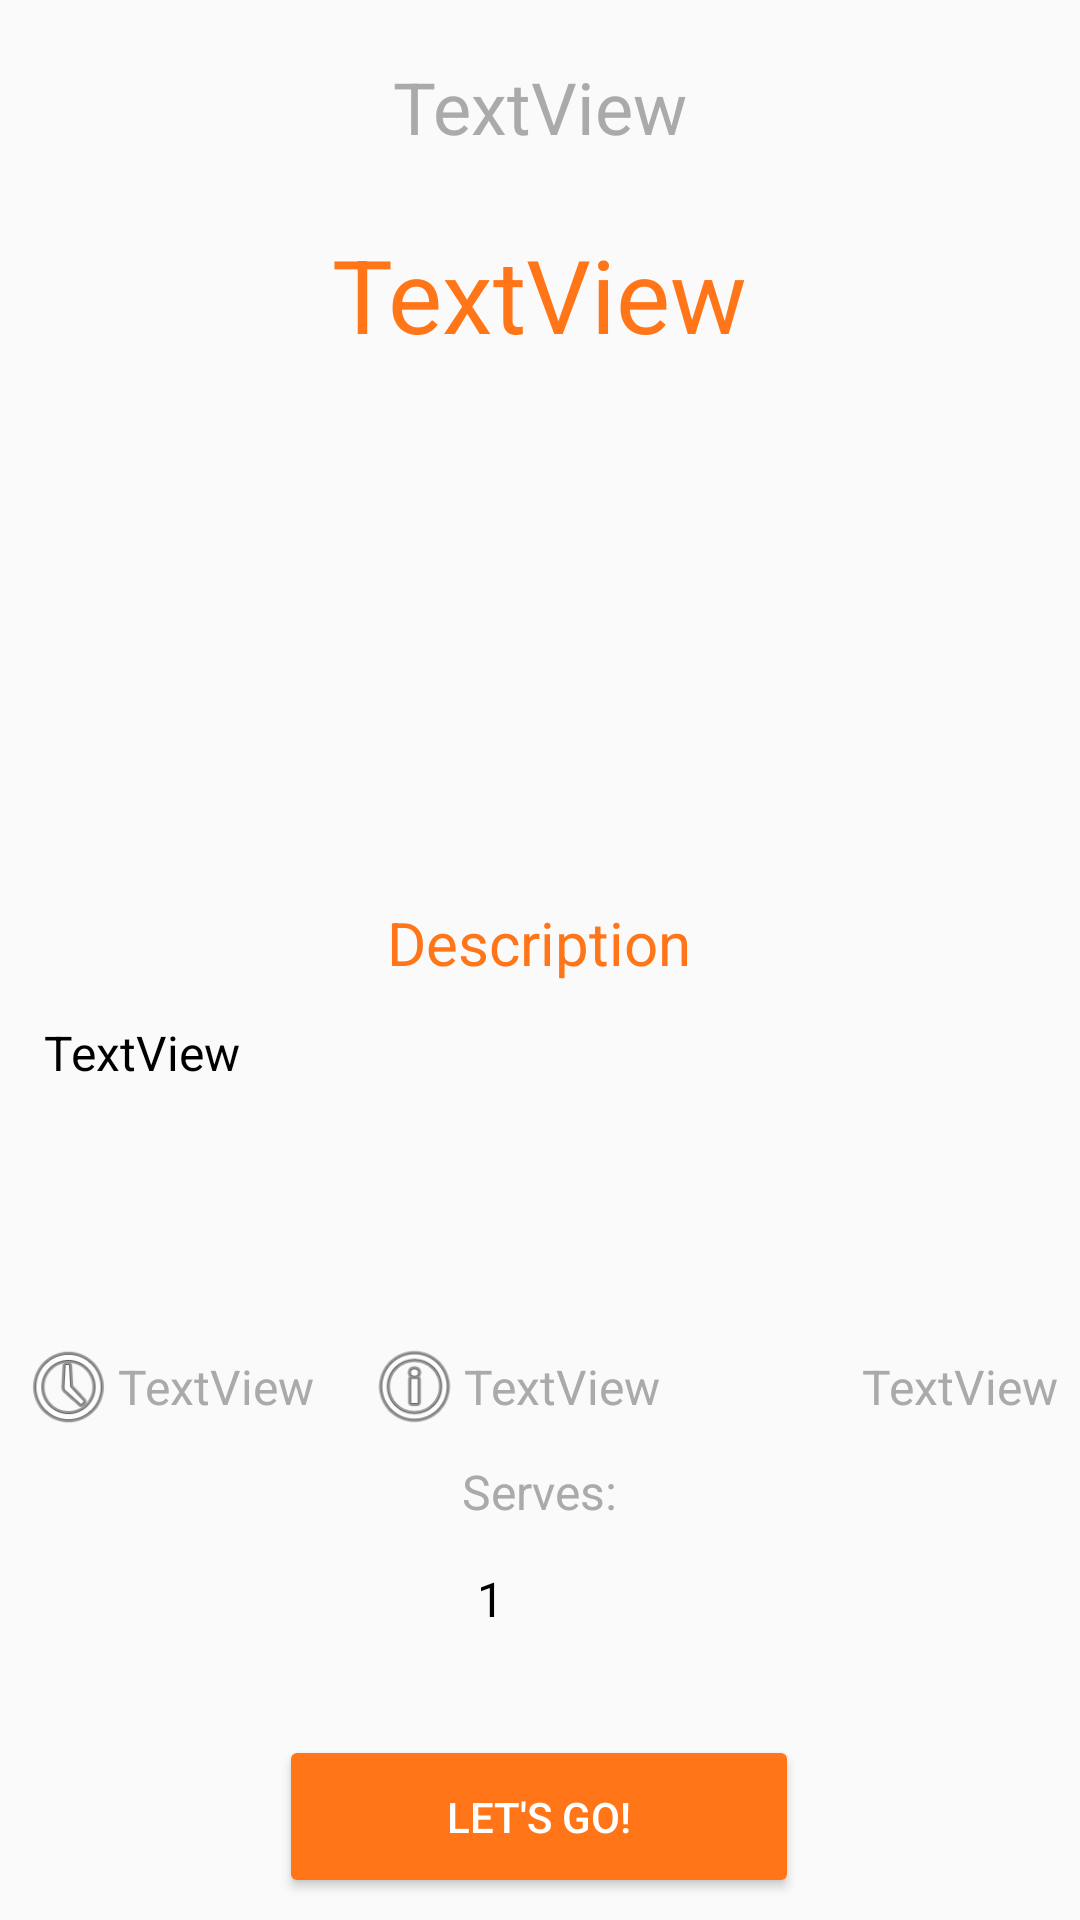

Icons on this 1080px x 1920px Android screen, each with its box as box(x1, y1, x2, y2):
info details: box(379, 1351, 450, 1422)
recent history: box(33, 1351, 104, 1423)
